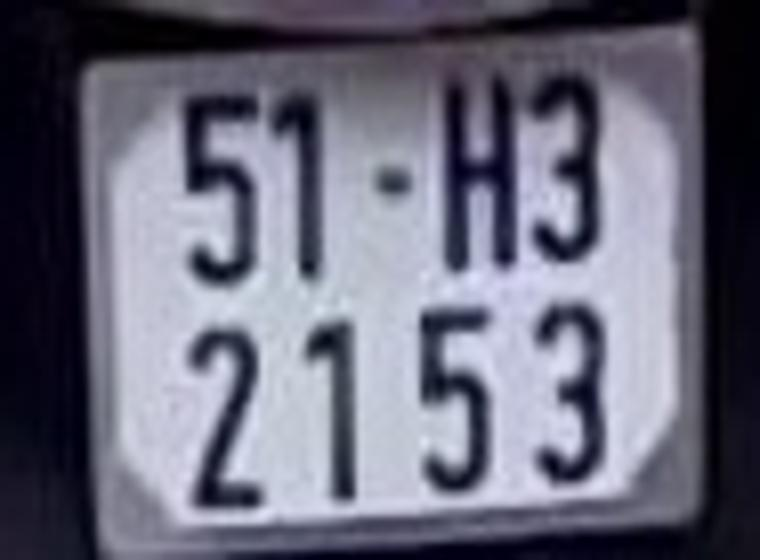-: (366, 166, 419, 209)
1: (272, 82, 344, 290), (300, 311, 370, 512)
2: (184, 325, 276, 516)
3: (533, 292, 619, 491), (530, 66, 607, 268)
5: (171, 90, 271, 288), (419, 301, 502, 499)
H: (443, 73, 521, 272)
